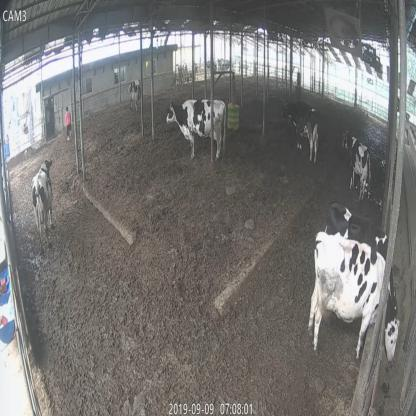cow: (304, 232, 400, 362), (166, 99, 226, 160), (327, 202, 389, 260), (282, 102, 318, 163), (31, 160, 53, 254), (342, 131, 371, 201), (128, 80, 142, 110)
